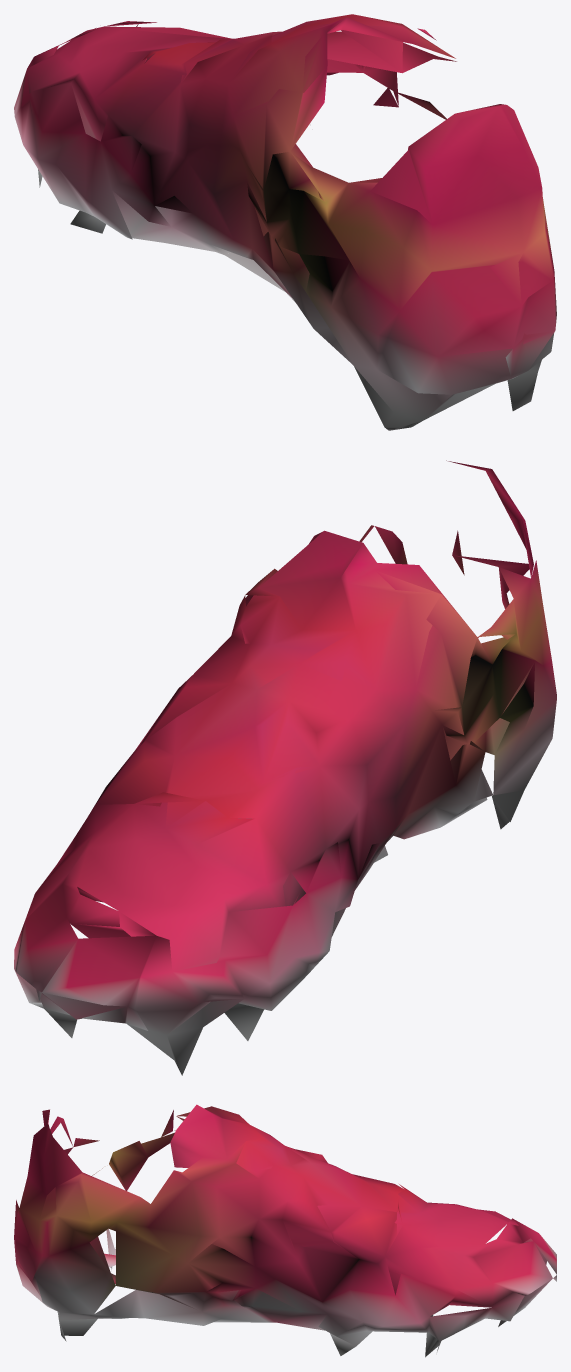
The model's file is crampons-roses.glb.
3 views of the same model, one above another, from view 1: azimuth 30°, elevation 25°; view 2: azimuth 150°, elevation 25°; view 3: azimuth 270°, elevation 25° (orthographic). The views are drawn at different scales.
Parts seen in each view (by area): view 1: crampons-roses; view 2: crampons-roses; view 3: crampons-roses.
Boxes of the visible parts, x1=… form: crampons-roses: x1=14, y1=14, x2=556, y2=430; crampons-roses: x1=14, y1=460, x2=556, y2=1075; crampons-roses: x1=14, y1=1104, x2=556, y2=1357.
Bounding box in the file's own units: 0.357 × 0.4458 × 1.
